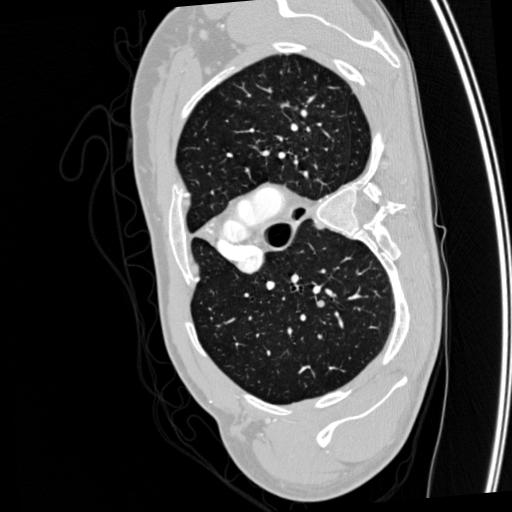nodule: (315, 298, 328, 311)
